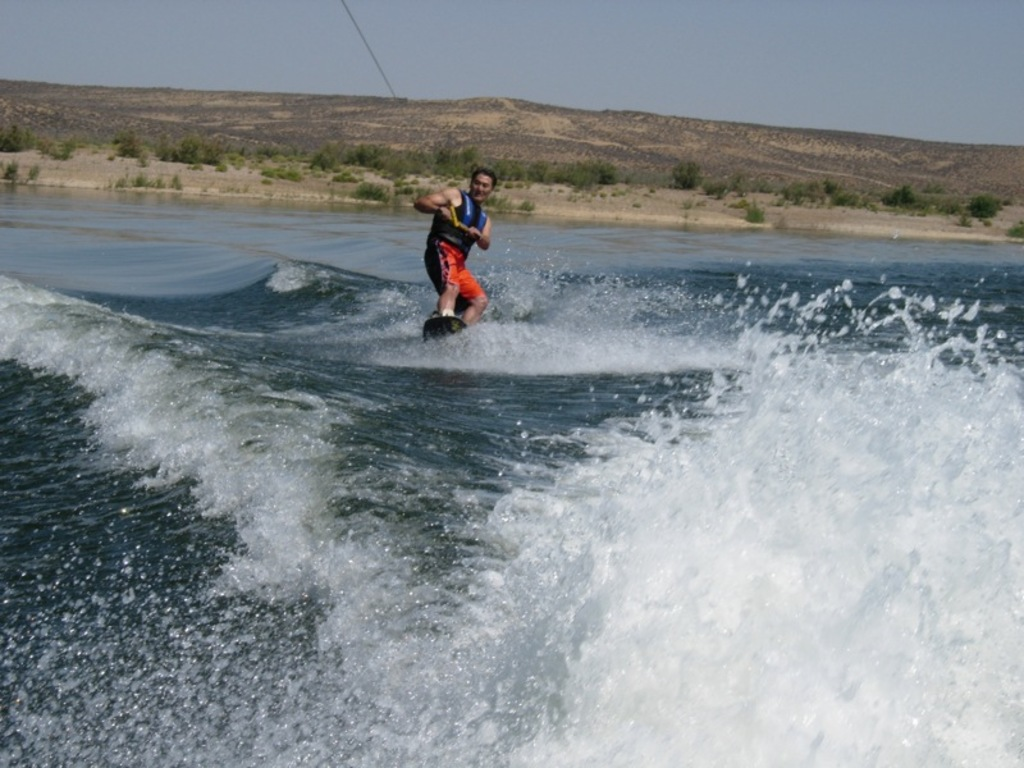Person: (413, 167, 496, 325)
